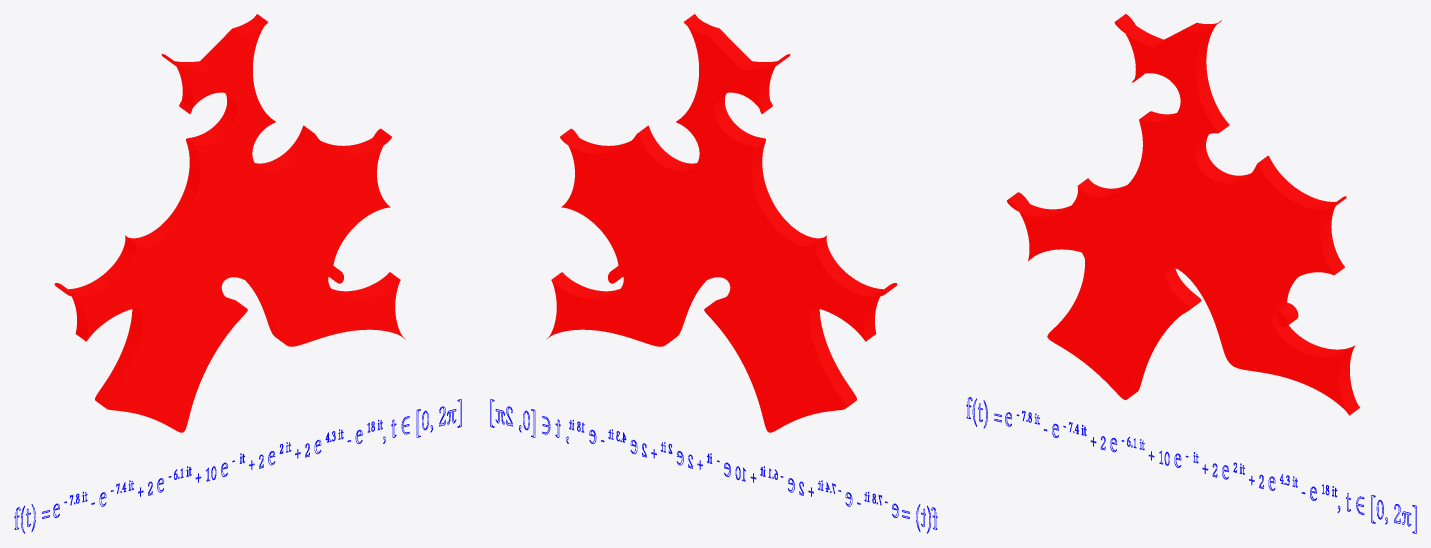
The picture shows the model from 3 angles, left to right: view 1: azimuth 30°, elevation 25°; view 2: azimuth 150°, elevation 25°; view 3: azimuth 330°, elevation 25°; orthographic projection.
Bounding box in the file's own units: 1.2 × 1.17 × 0.05.
